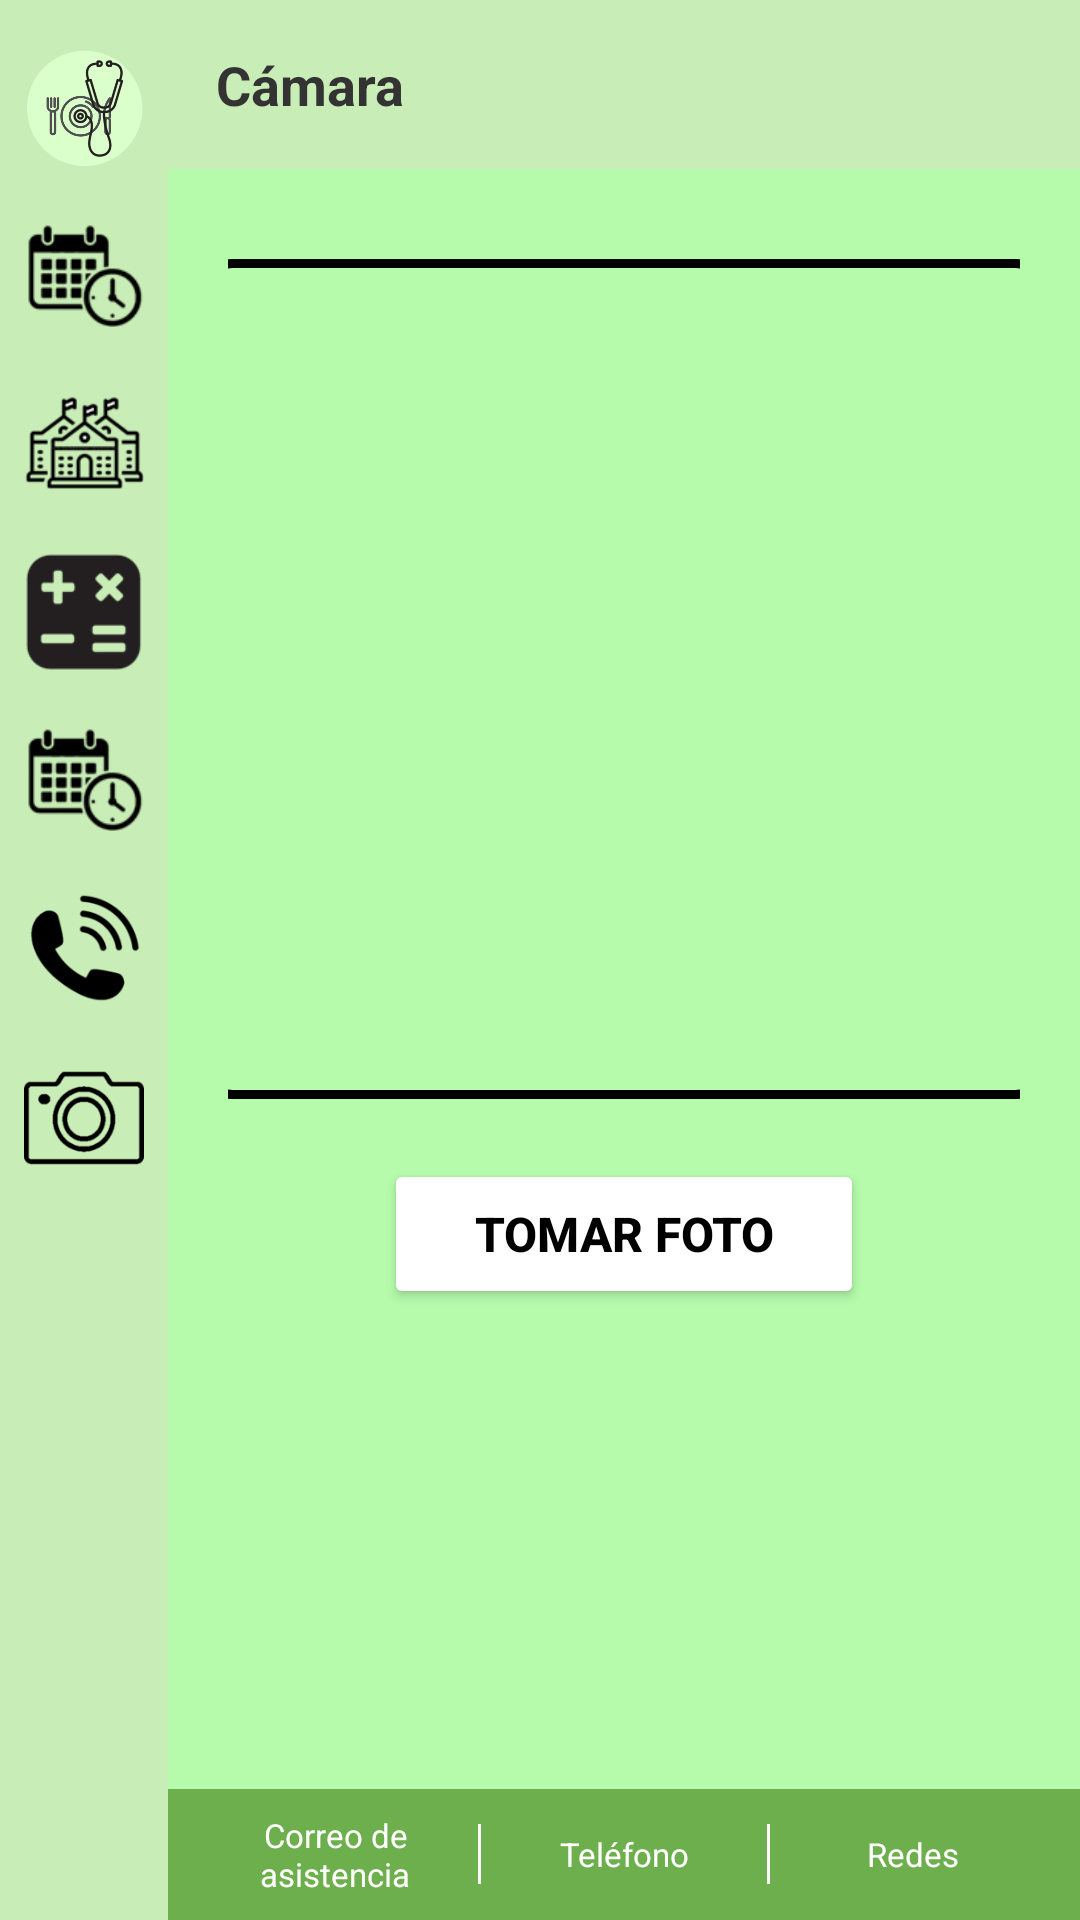

Icons on this 1080px×1920px Android screen, each with the point to tap as point (x, y):
Calculadora: point (83, 612)
Cámara: point (84, 1118)
Institución: point (85, 443)
Teléfono: point (85, 948)
